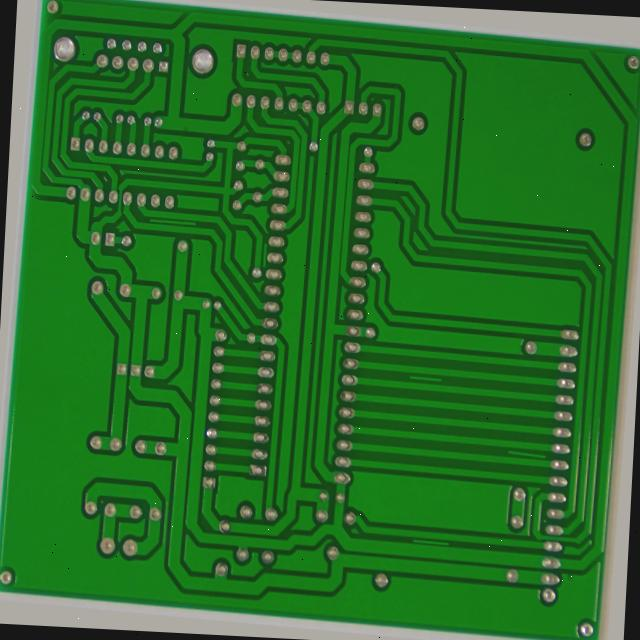spurious_copper: (138, 213, 191, 231), (418, 534, 463, 554), (409, 367, 451, 383), (514, 442, 558, 457), (254, 237, 266, 272)
